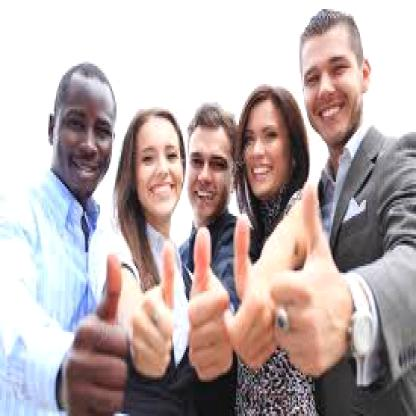Thumbs up: (70, 252, 130, 414), (183, 223, 230, 379), (132, 241, 178, 374), (233, 218, 266, 365)
